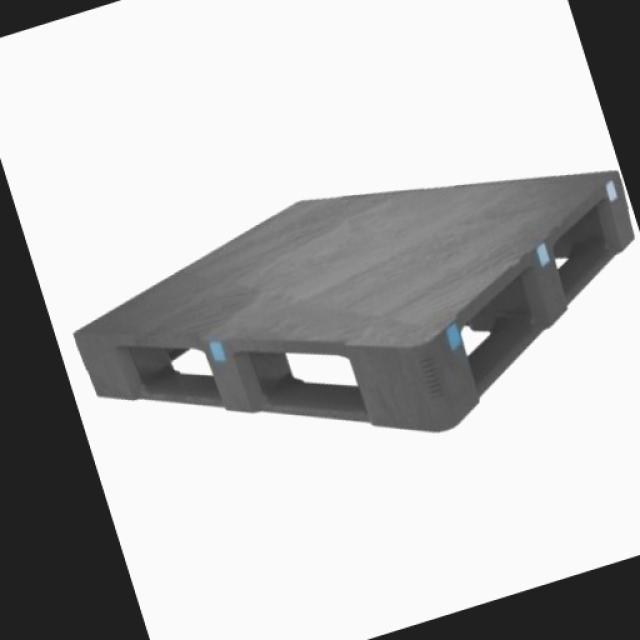non-igps: (67, 162, 638, 437)
